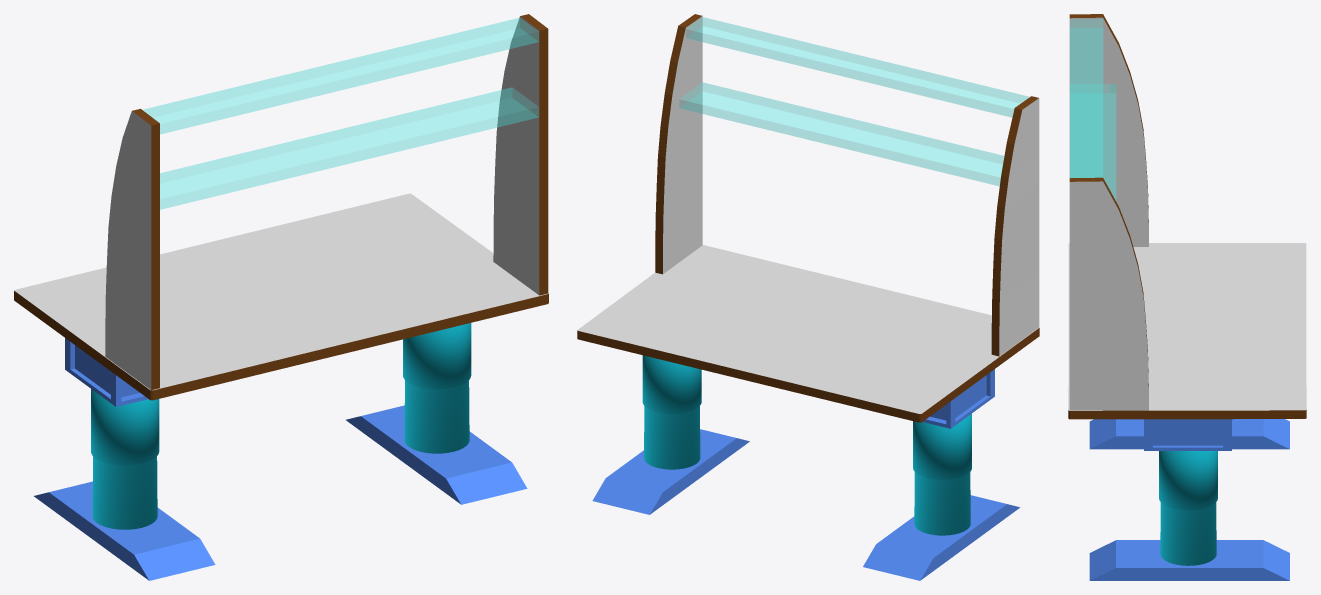
File: table_tier11.fbx
3 renders of one model, left to right at view 1: azimuth 30°, elevation 25°; view 2: azimuth 150°, elevation 25°; view 3: azimuth 270°, elevation 25°, orthographic. The views are drawn at different scales.
Parts seen in each view (by area): view 1: Cube.002, Cylinder, Cylinder.001, Cube.003, Cube.004, Cube.001; view 2: Cube.002, Cylinder, Cylinder.001, Cube.003, Cube.004, Cube.001; view 3: Cube.002, Cube.004, Cylinder.001, Cube.003, Cube.005.
Part boxes in pixels (x1,y1,x2,y2): Cube.002: (14, 14, 548, 400); Cylinder: (91, 389, 159, 529); Cylinder.001: (403, 323, 471, 453); Cube.003: (34, 481, 215, 580); Cube.004: (346, 405, 527, 504); Cube.001: (65, 338, 148, 406); Cube.002: (577, 14, 1039, 422); Cylinder: (913, 413, 971, 535); Cylinder.001: (642, 355, 701, 469); Cube.003: (863, 495, 1019, 580); Cube.004: (592, 429, 749, 514); Cube.001: (923, 369, 994, 428); Cube.002: (1068, 14, 1306, 419); Cube.004: (1089, 540, 1289, 580); Cylinder.001: (1159, 451, 1217, 565); Cube.003: (1089, 419, 1289, 449); Cube.005: (1144, 419, 1231, 450).
Bounding box in the file's own units: 181 × 203 × 108.
